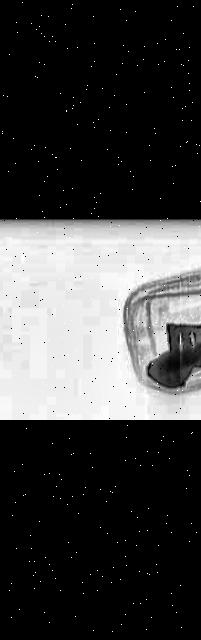Wrench: (88, 245, 201, 388)
